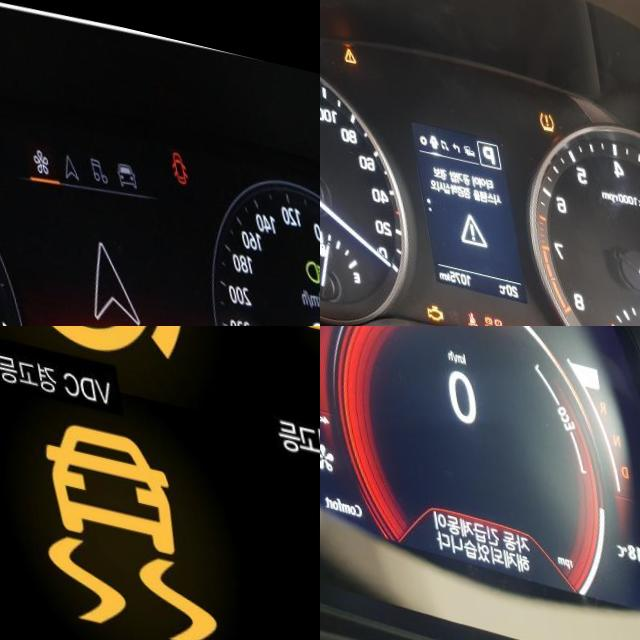Central Warning lamp: (337, 36, 351, 54)
Doors: (166, 130, 186, 168)
Low beam: (297, 232, 320, 266)
